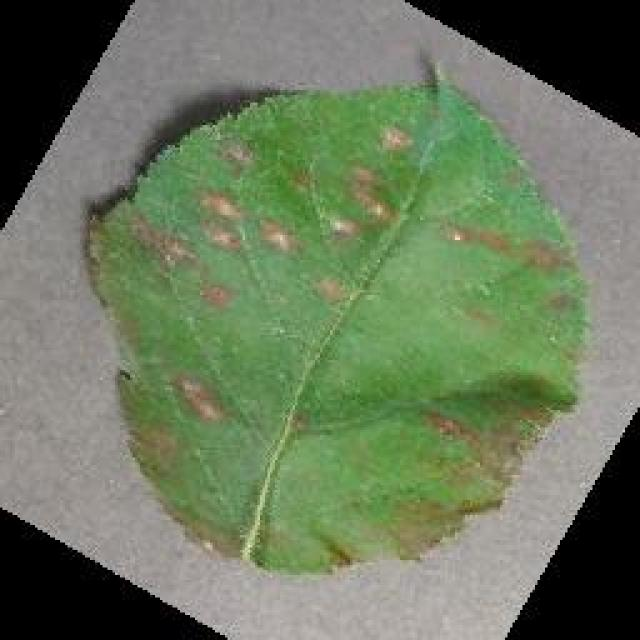apple scab disease: (80, 60, 590, 575)
